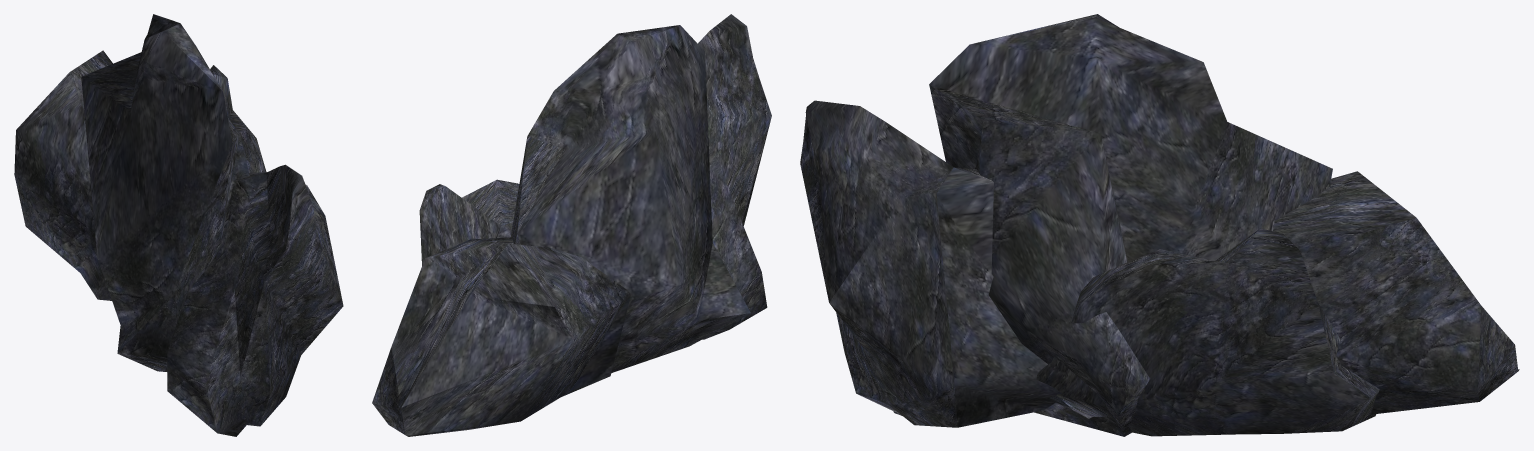
Rendered from pir_m_prp_vol_rockGroup_d.fbx.
3 renders of one model, left to right at view 1: azimuth 30°, elevation 25°; view 2: azimuth 150°, elevation 25°; view 3: azimuth 270°, elevation 25°, orthographic. The views are drawn at different scales.
Visible parts, largest first — view 1: group1; view 2: group1; view 3: group1.
Part boxes in pixels (x1=…): group1: x1=14, y1=14, x2=343, y2=436; group1: x1=372, y1=14, x2=771, y2=436; group1: x1=800, y1=14, x2=1519, y2=436.
Bounding box in the file's own units: 3369 × 5280 × 8361.
Materials: 1 (1 with a texture image).
